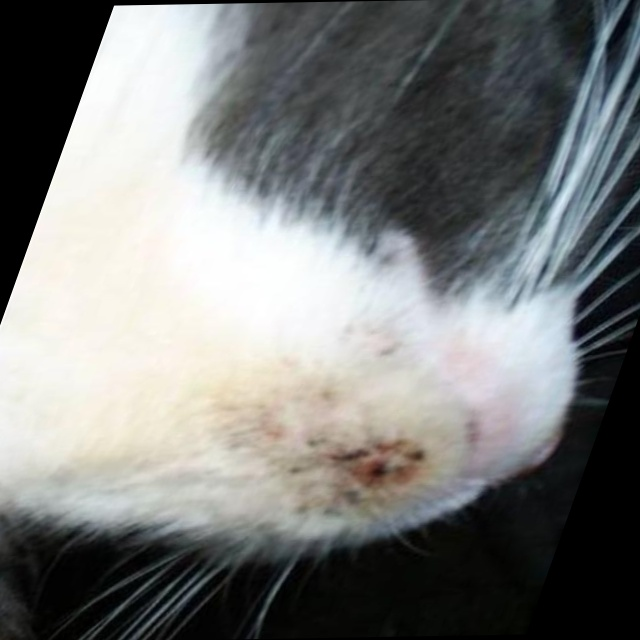acne: (272, 444, 441, 511)
